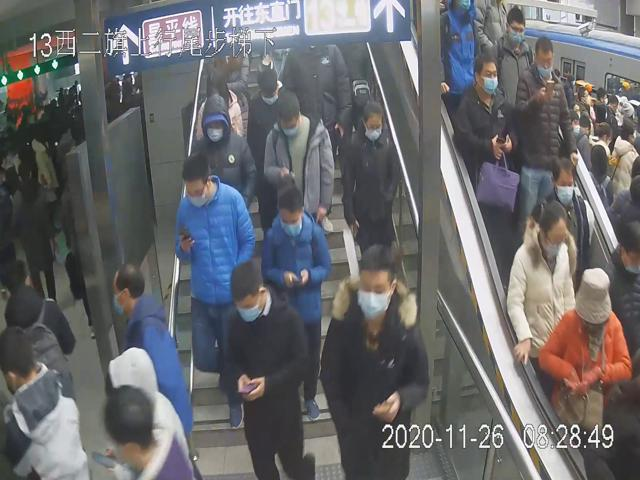person: (318, 237, 432, 480), (173, 151, 253, 431), (221, 256, 316, 480), (261, 183, 335, 425), (503, 198, 580, 372), (454, 53, 523, 224), (262, 93, 336, 240), (342, 97, 404, 259), (187, 93, 256, 224), (247, 65, 292, 232)
